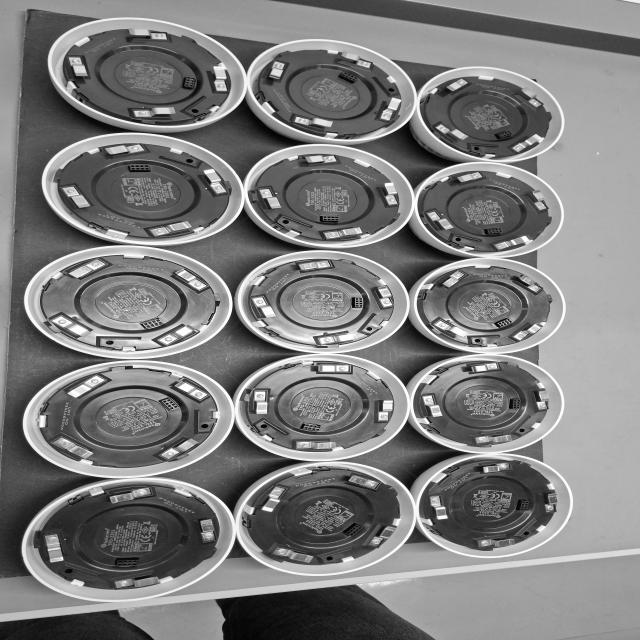yaysiz: (49, 313, 95, 339), (268, 544, 322, 566), (63, 258, 108, 284), (167, 268, 212, 294), (64, 54, 98, 88), (255, 485, 293, 515), (42, 532, 73, 568), (193, 167, 230, 197), (152, 324, 200, 347), (53, 435, 97, 460), (111, 572, 166, 592), (60, 183, 96, 213), (364, 521, 401, 550), (65, 374, 109, 398), (125, 103, 180, 122), (122, 26, 171, 47), (104, 486, 156, 505), (144, 219, 198, 237), (338, 474, 386, 494), (422, 204, 456, 232), (194, 514, 222, 548), (285, 112, 337, 130), (329, 49, 375, 69), (172, 378, 212, 401), (306, 329, 362, 345), (432, 319, 474, 340), (424, 493, 453, 522), (248, 293, 278, 320), (517, 85, 548, 111), (295, 154, 345, 170), (205, 64, 232, 93), (255, 186, 284, 213), (489, 234, 535, 251), (433, 123, 472, 143), (376, 180, 403, 208), (370, 282, 396, 311), (291, 438, 340, 453), (98, 142, 150, 156), (514, 272, 547, 294), (317, 225, 365, 240), (512, 132, 544, 154), (377, 96, 403, 123), (522, 187, 550, 212), (438, 269, 471, 290), (290, 259, 336, 274), (264, 59, 290, 85), (420, 394, 446, 420), (514, 320, 546, 341), (373, 396, 397, 424), (463, 361, 505, 377), (537, 490, 561, 518), (474, 534, 522, 548), (476, 460, 514, 477), (472, 432, 518, 446), (450, 170, 490, 186), (252, 388, 272, 418), (310, 362, 354, 375), (530, 386, 550, 411), (442, 78, 471, 94)
